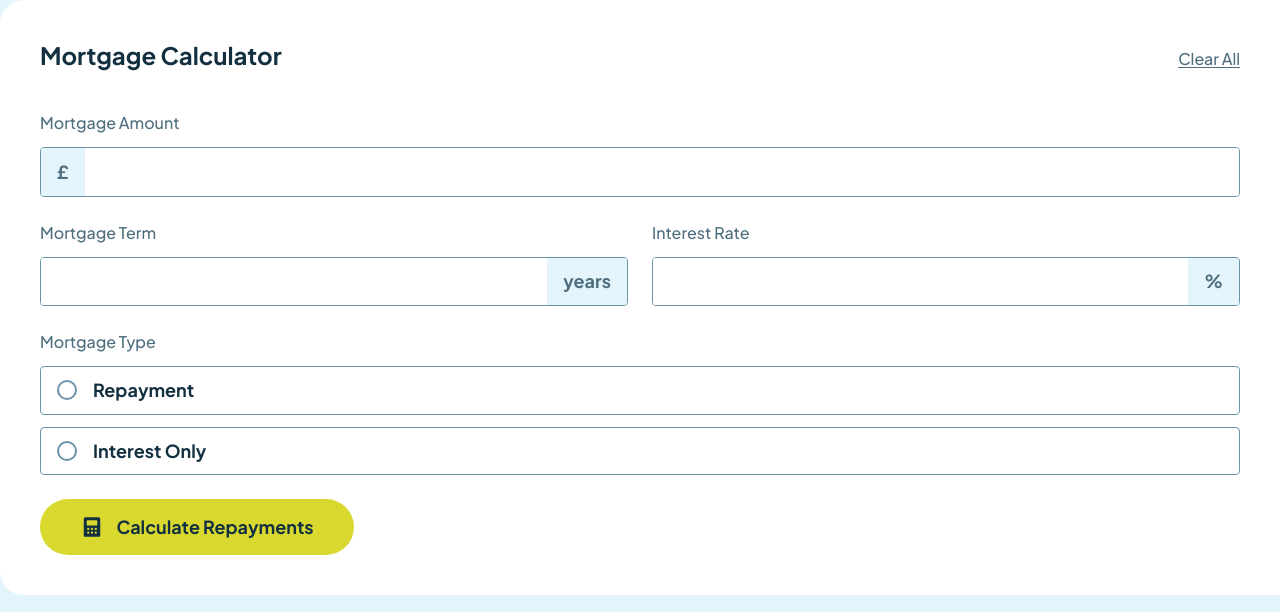
MortgageCalculator Input Validation › clears all form fields when 'Clear All' button is clicked
In the number field labelled "Mortgage Amount": (662, 172) [85,148,1239,196], type "300000"
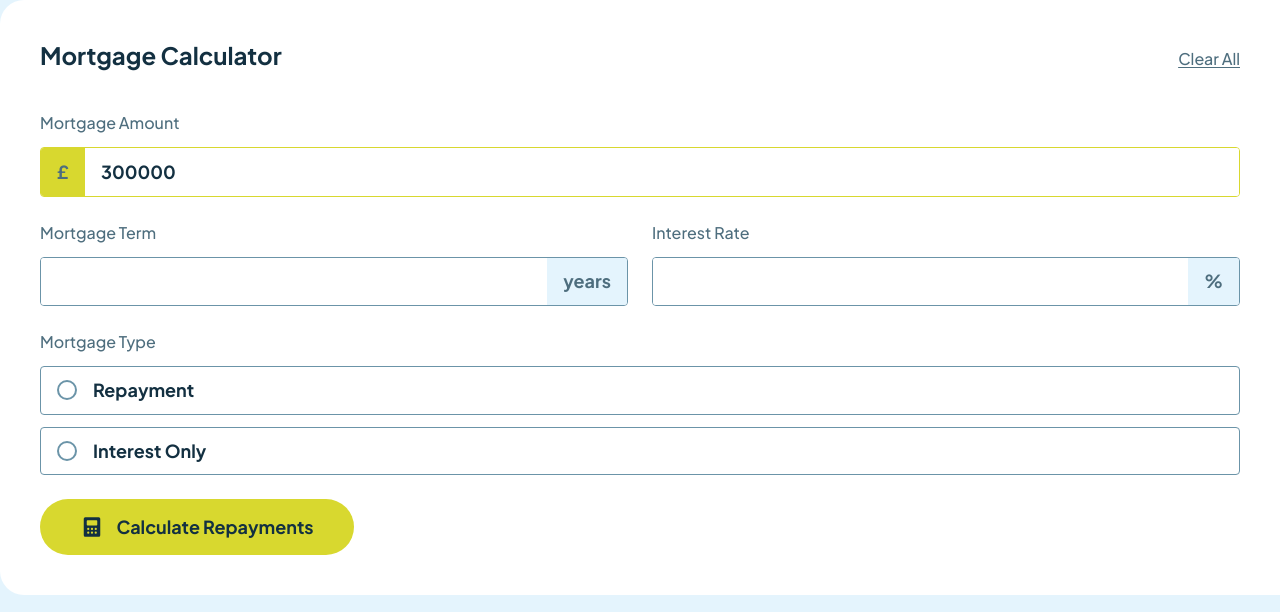
In the number field labelled "Mortgage Term": (294, 281) [41,258,547,305], type "25"
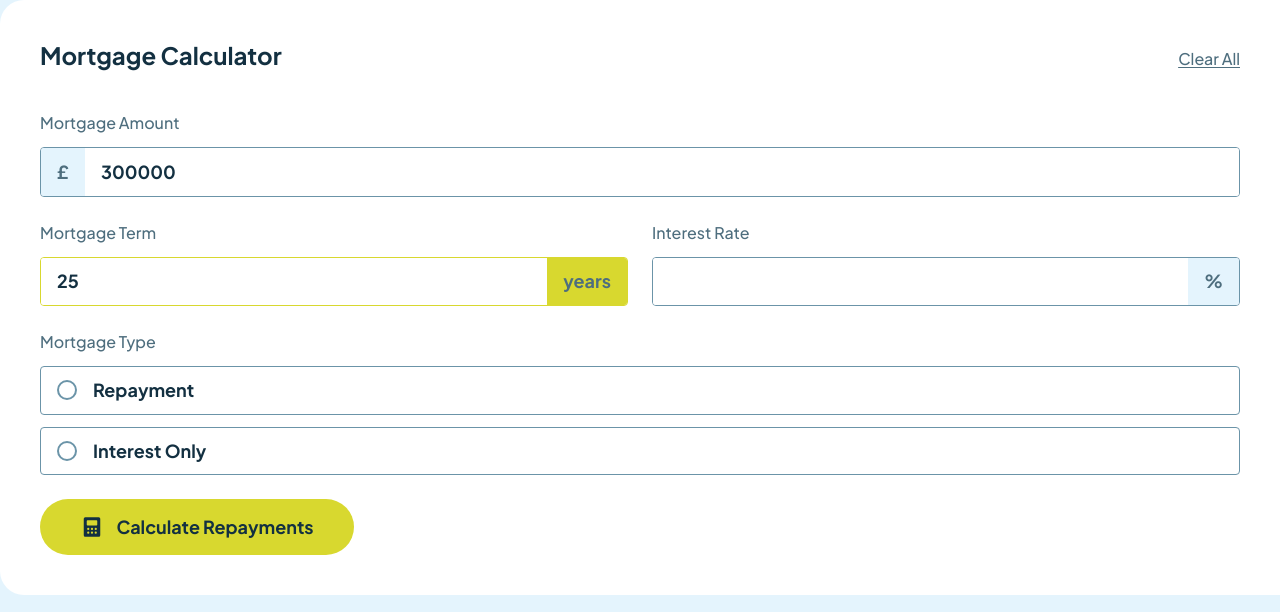
In the number field labelled "Interest Rate": (921, 281) [653,258,1188,305], type "5"
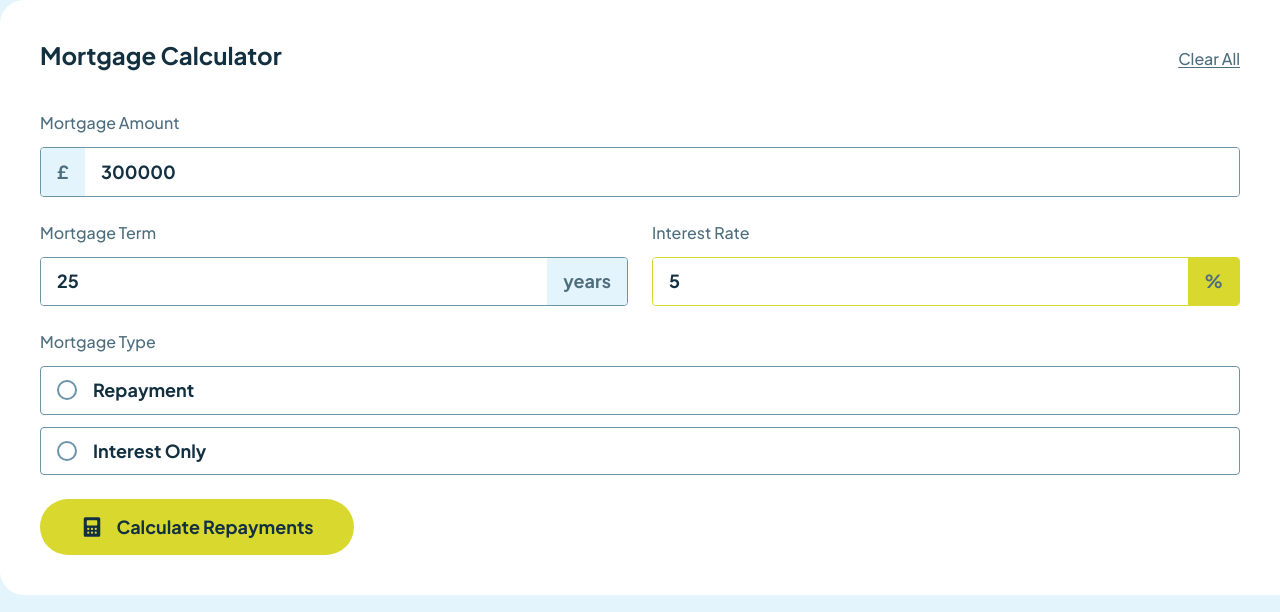
Click the radio button labelled "Repayment": (67, 390) [57,380,77,400]
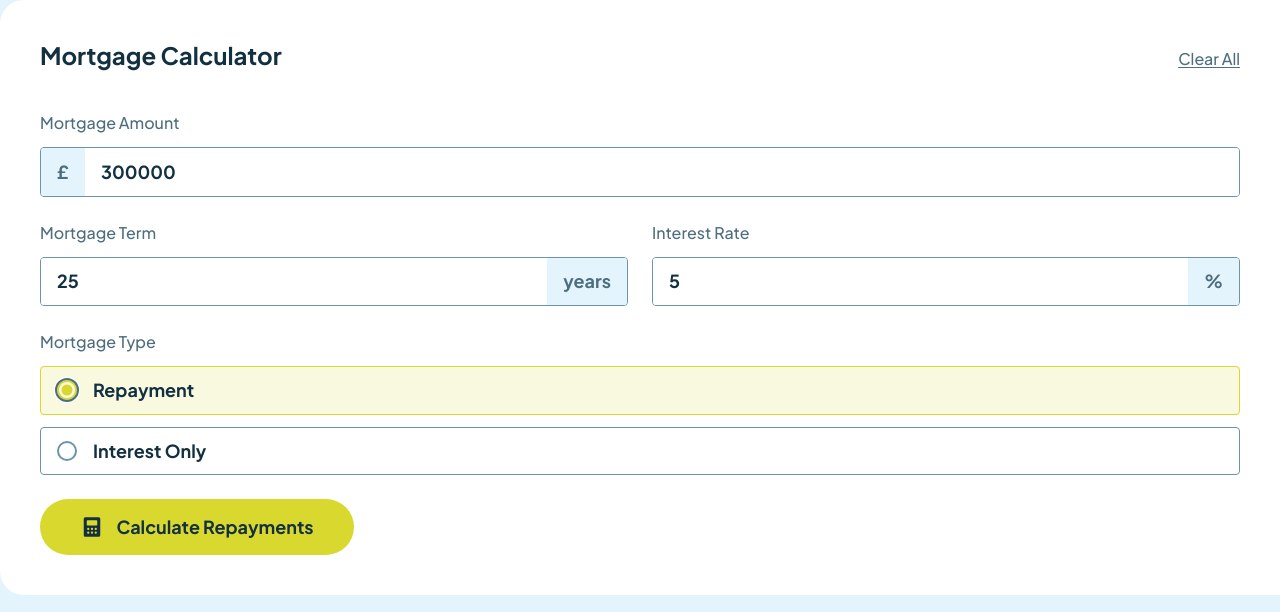
Note: clicks the 'Clear All' button
Click the button "Clear All": (1209, 59) [1178,47,1240,71]
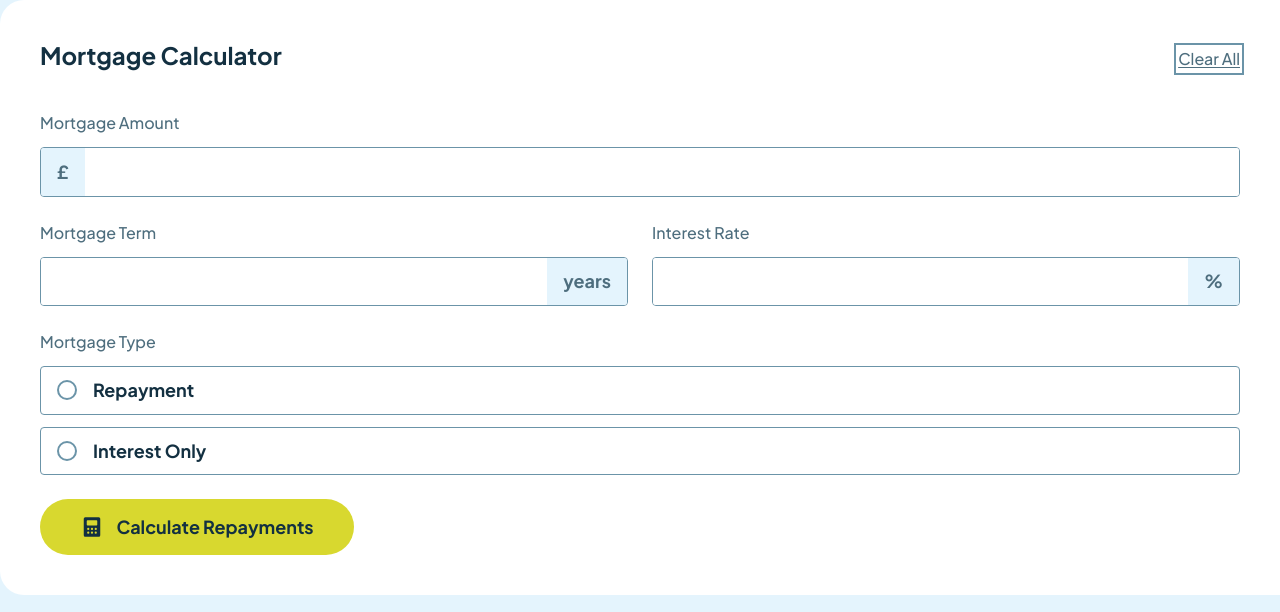
Expected: the number field labelled "Mortgage Amount" is not empty, [85,148,1239,196]
Expected: the number field labelled "Mortgage Term" is not empty, [41,258,547,305]
Expected: the number field labelled "Interest Rate" is not empty, [653,258,1188,305]
